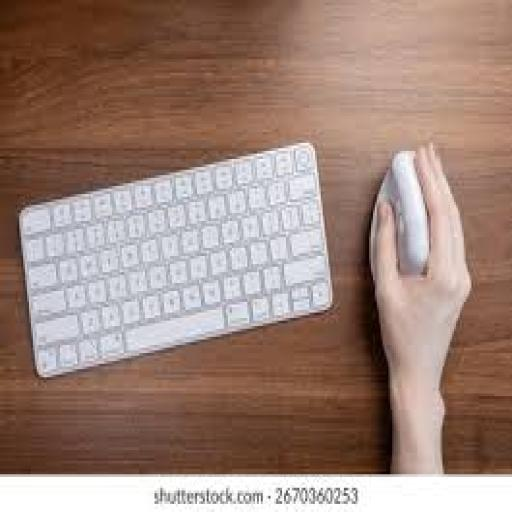keyboard: (19, 143, 330, 375)
